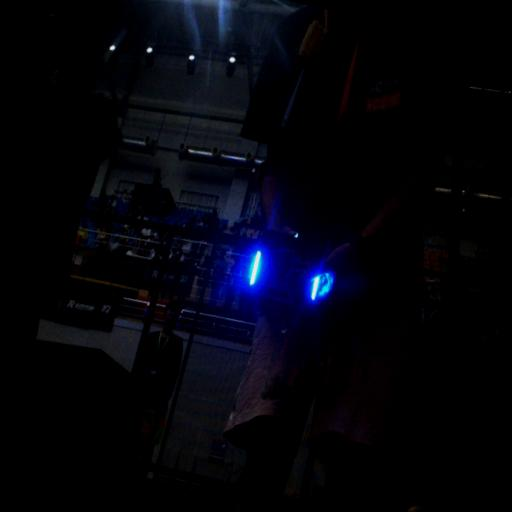target: (240, 226, 334, 325)
